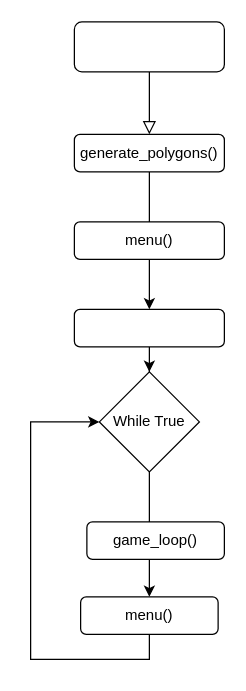
Some shapes in this 246 by 691 pixel diagram are drawn without their labels. Each missing label, with the box of its shape:
decide_first(): (73, 308, 224, 347)
main(): (73, 21, 224, 72)
